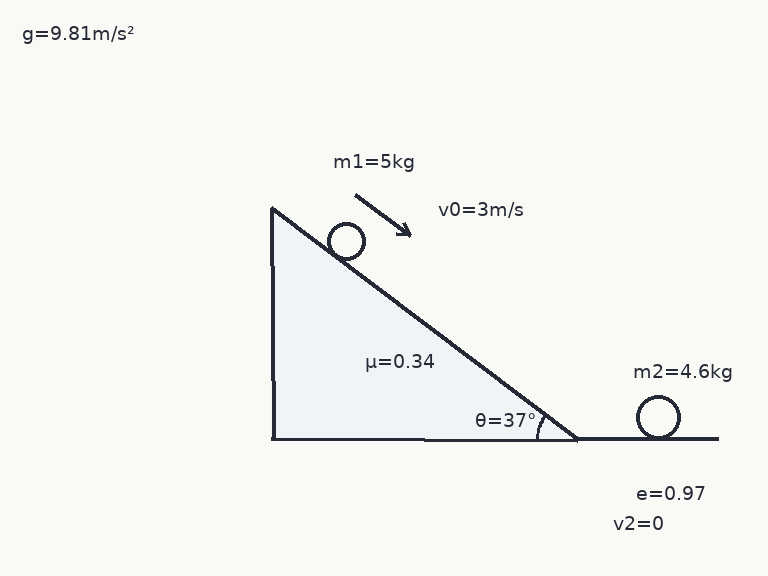ball: (634, 393, 682, 441), (325, 220, 367, 262)
ramp: (269, 207, 579, 441)
